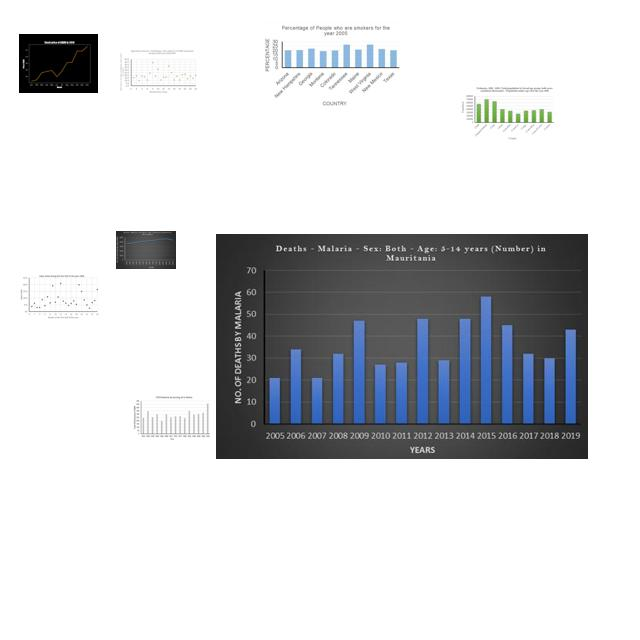Graph: (216, 234, 588, 459), (263, 22, 403, 107), (461, 86, 558, 141), (19, 34, 98, 93), (118, 48, 198, 95), (132, 395, 211, 441), (20, 274, 99, 319), (116, 231, 176, 269)
